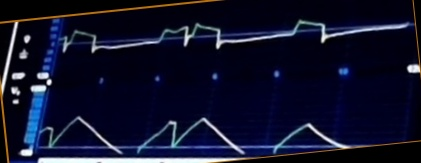Double_Triggering Flow: (59, 17, 380, 65)
Double_Triggering Volume: (40, 111, 371, 157)
